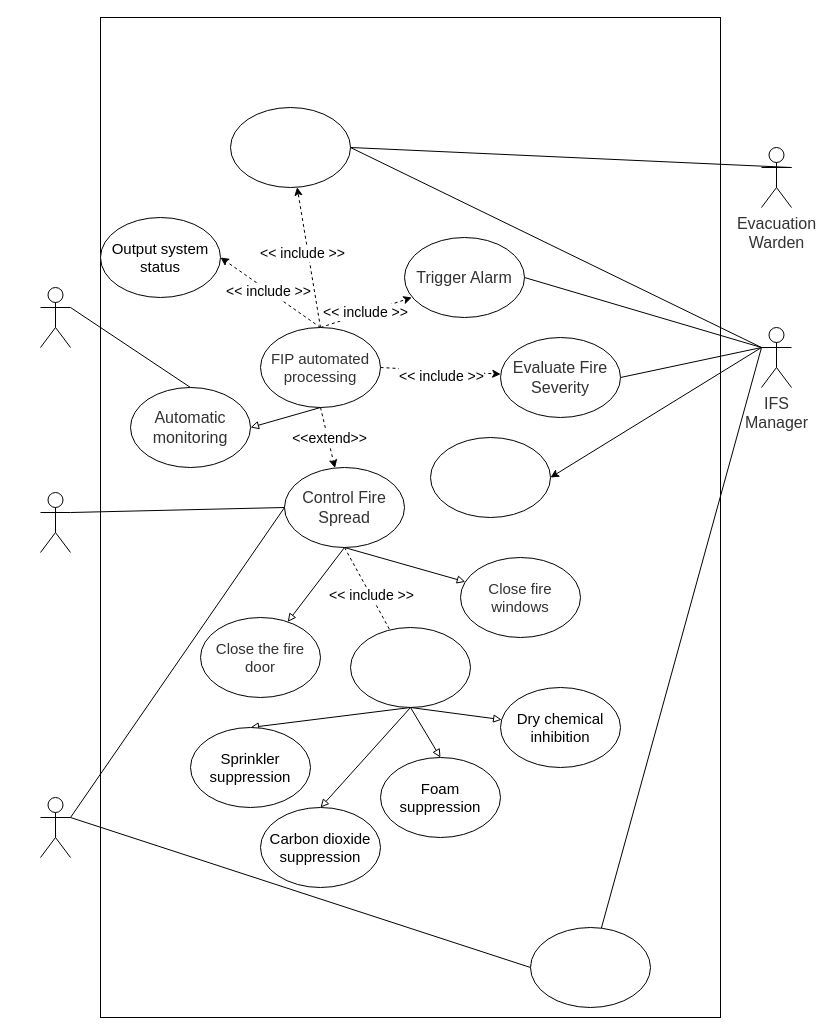
Some shapes in this 833 by 1035 pixel diagram are drawn without their labels. Each missing label, with the centre of its shape:
Activate Suppression Systems: the point at 410,667
Fire Indicator Panel: the point at 55,522
Firefighter: the point at 55,827
Generate Reports: the point at 490,477
Registering Sensors: the point at 55,317
Setting IFS rules: the point at 590,967
Trigger Evacuation: the point at 290,147
